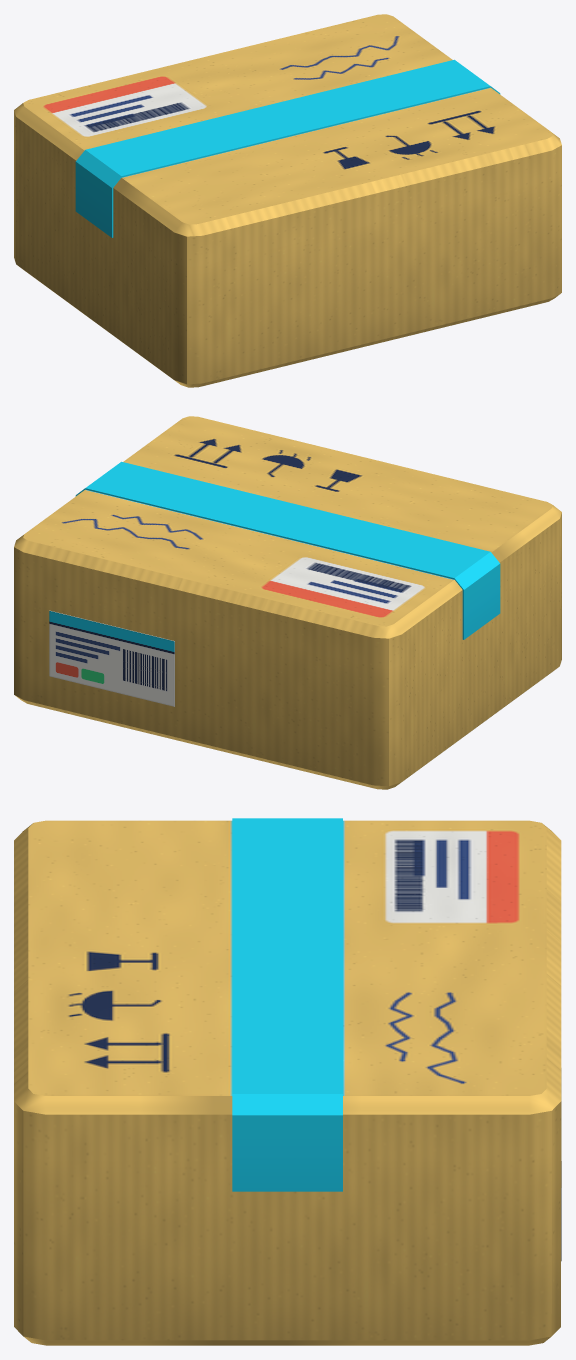
The model's file is reception_carton_lod1.glb.
3 views of the same model, one above another, from view 1: azimuth 30°, elevation 25°; view 2: azimuth 150°, elevation 25°; view 3: azimuth 270°, elevation 25° (orthographic). The views are drawn at different scales.
Parts seen in each view (by area): view 1: reception_carton_LOD1; view 2: reception_carton_LOD1; view 3: reception_carton_LOD1.
Part boxes in pixels (box(x1,y1,x2,y2)): reception_carton_LOD1: box(14, 14, 561, 387); reception_carton_LOD1: box(14, 416, 561, 789); reception_carton_LOD1: box(14, 818, 561, 1345).
Size of the model in its own units: 9.92 by 4 by 7.93.
Materials: 1 (1 with a texture image).
